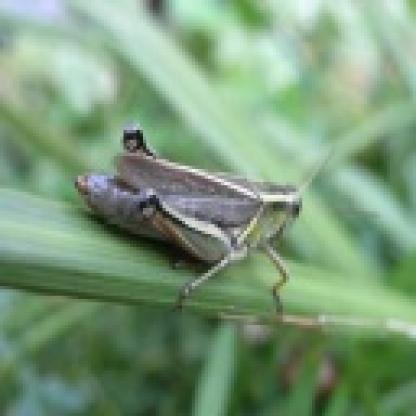grasshopper: (71, 124, 326, 284)
